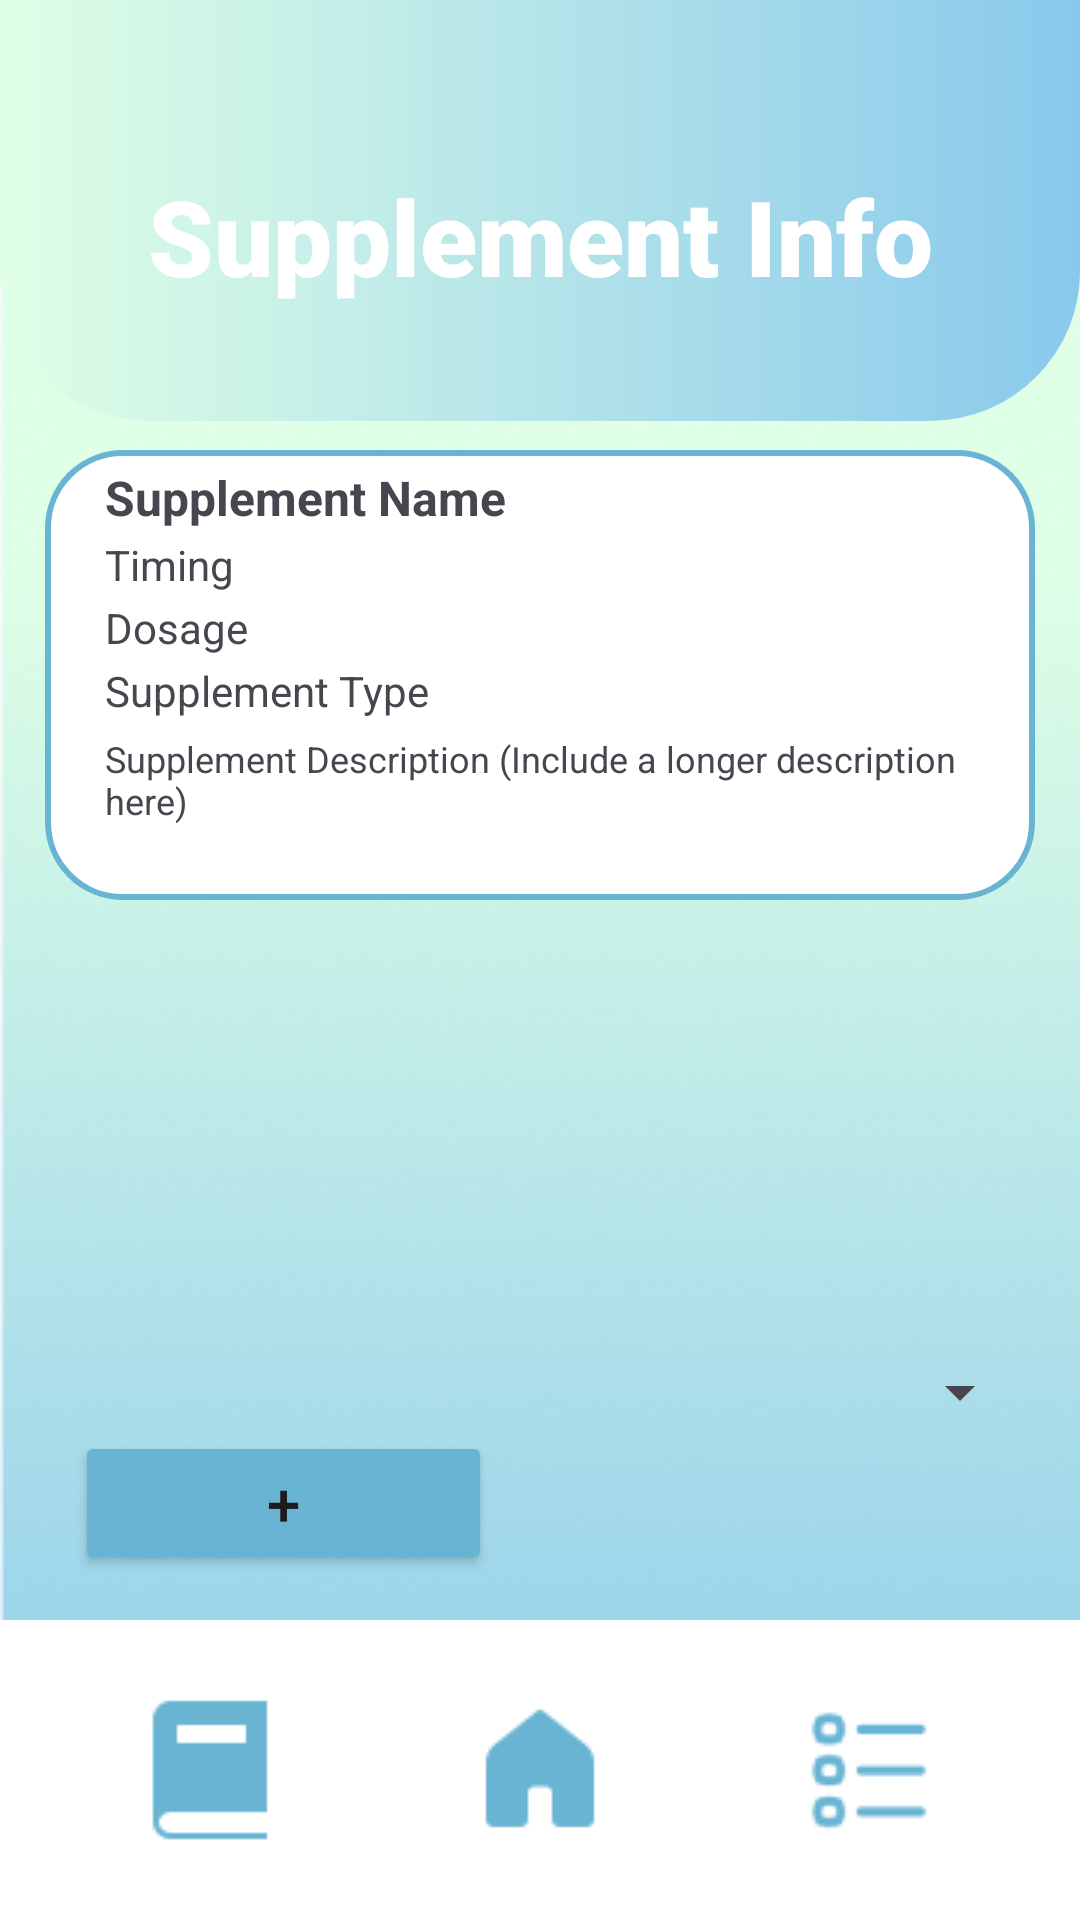

Named icons in this screenshot (1080px x 1920px) and their centers, (x,y):
book: (210,1770)
home: (540,1768)
